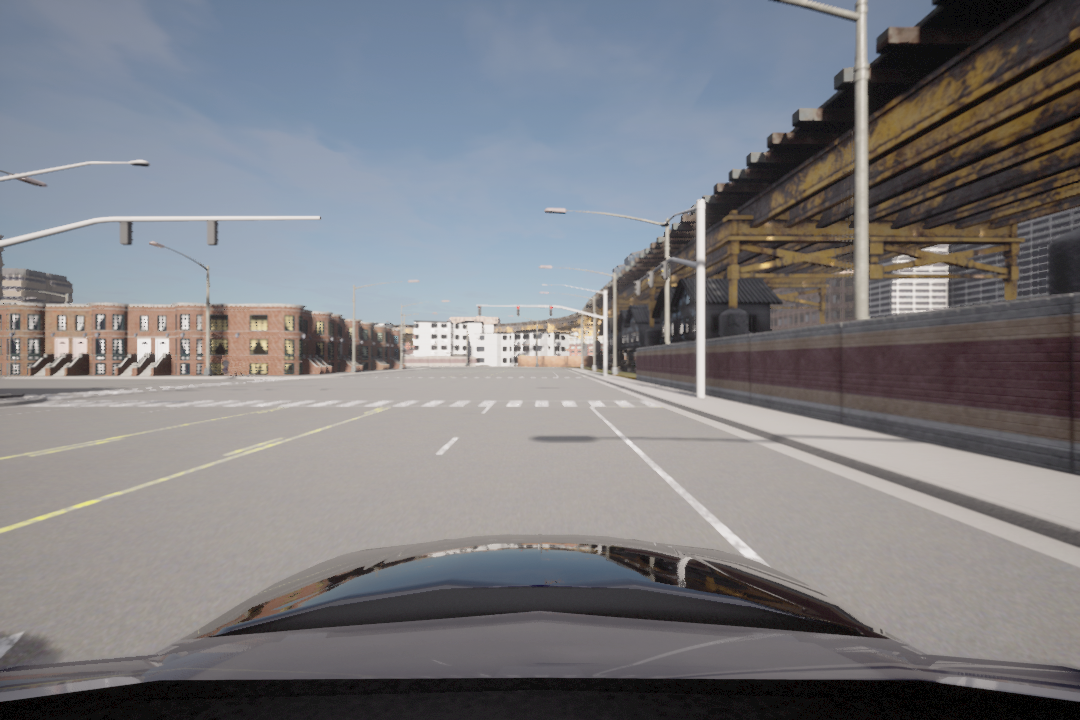walkside: (51, 394, 657, 411)
